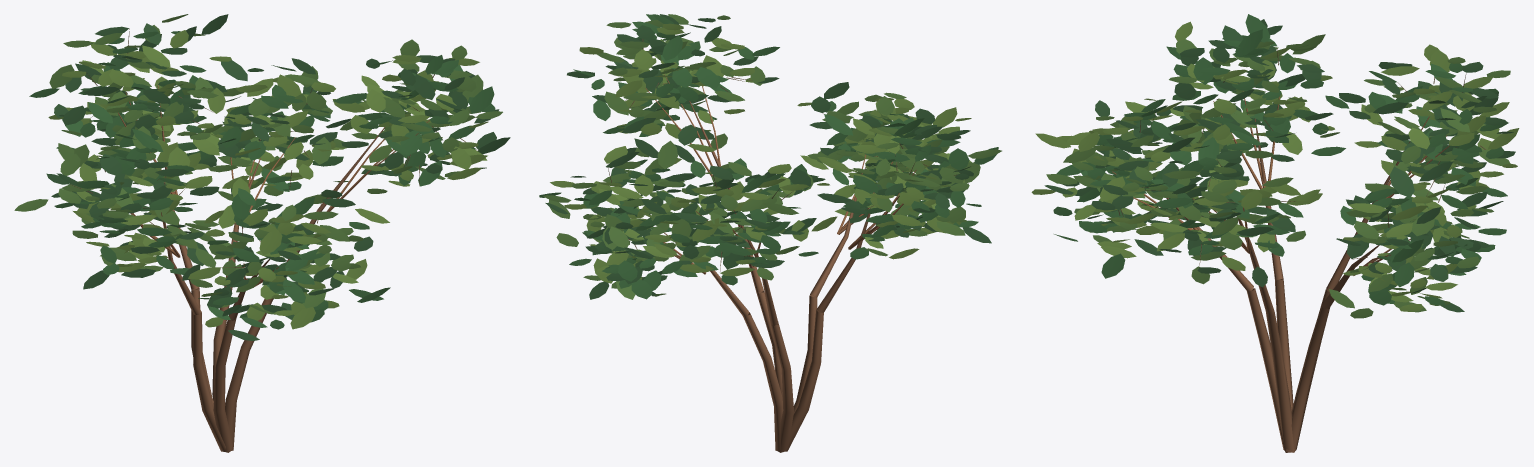
Rendered from ArbousierBuisson_1_High.fbx.
3 views of the same model, side by side, from view 1: azimuth 30°, elevation 25°; view 2: azimuth 150°, elevation 25°; view 3: azimuth 270°, elevation 25° (orthographic). The views are drawn at different scales.
Visible parts, largest first — view 1: ArbousierBuisson_1_High; view 2: ArbousierBuisson_1_High; view 3: ArbousierBuisson_1_High.
Part boxes in pixels (<box>): ArbousierBuisson_1_High: <box>14,14,510,452</box>; ArbousierBuisson_1_High: <box>539,14,1001,452</box>; ArbousierBuisson_1_High: <box>1031,14,1519,452</box>.
Size of the model in its own units: 305 by 255 by 287.
